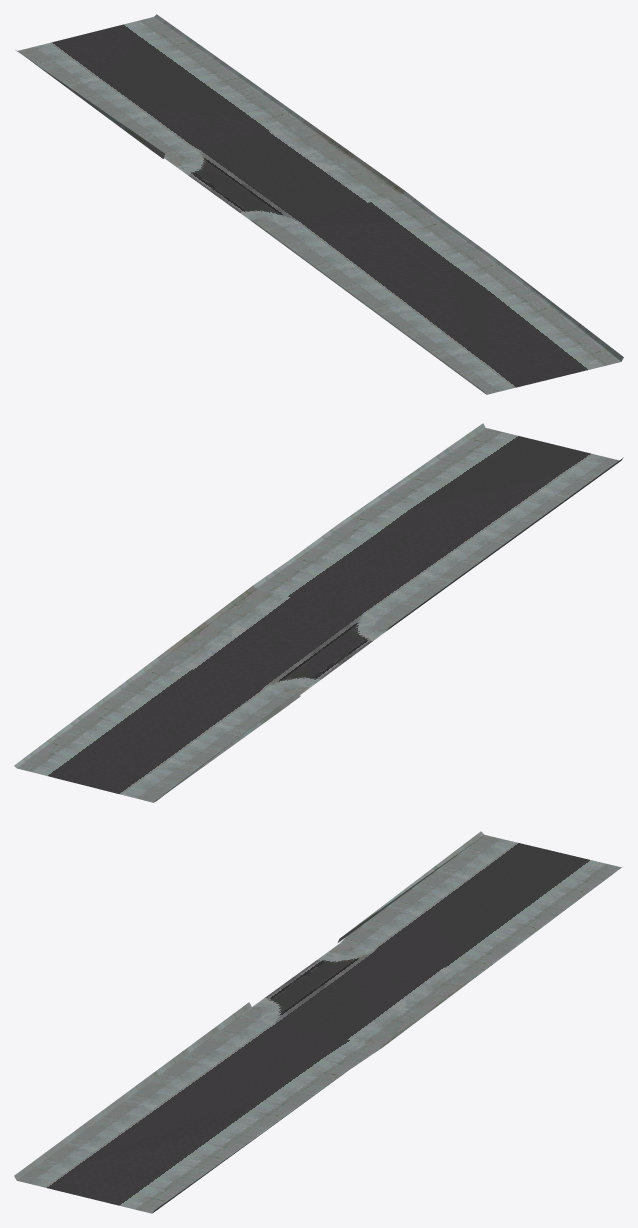
File: lodroad11_lan2.obj
The picture shows the model from 3 angles, top to bottom: view 1: azimuth 30°, elevation 25°; view 2: azimuth 150°, elevation 25°; view 3: azimuth 330°, elevation 25°; orthographic projection.
Visible parts, largest first — view 1: LODroad11_LAn2; view 2: LODroad11_LAn2; view 3: LODroad11_LAn2.
Boxes of the visible parts, box(x1,y1,x2,y2) form: LODroad11_LAn2: box(15, 14, 623, 394); LODroad11_LAn2: box(14, 423, 623, 802); LODroad11_LAn2: box(14, 831, 621, 1213).
Size of the model in its own units: 21.9 by 0.8273 by 120.
2 materials, 2 textured.
